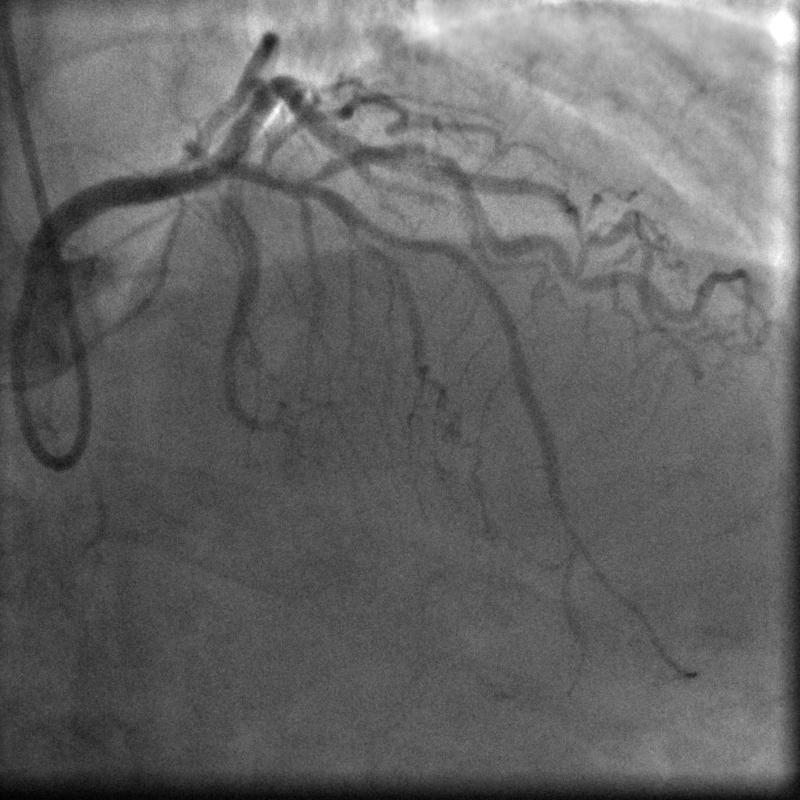Stenosis: (399, 136, 459, 175)
